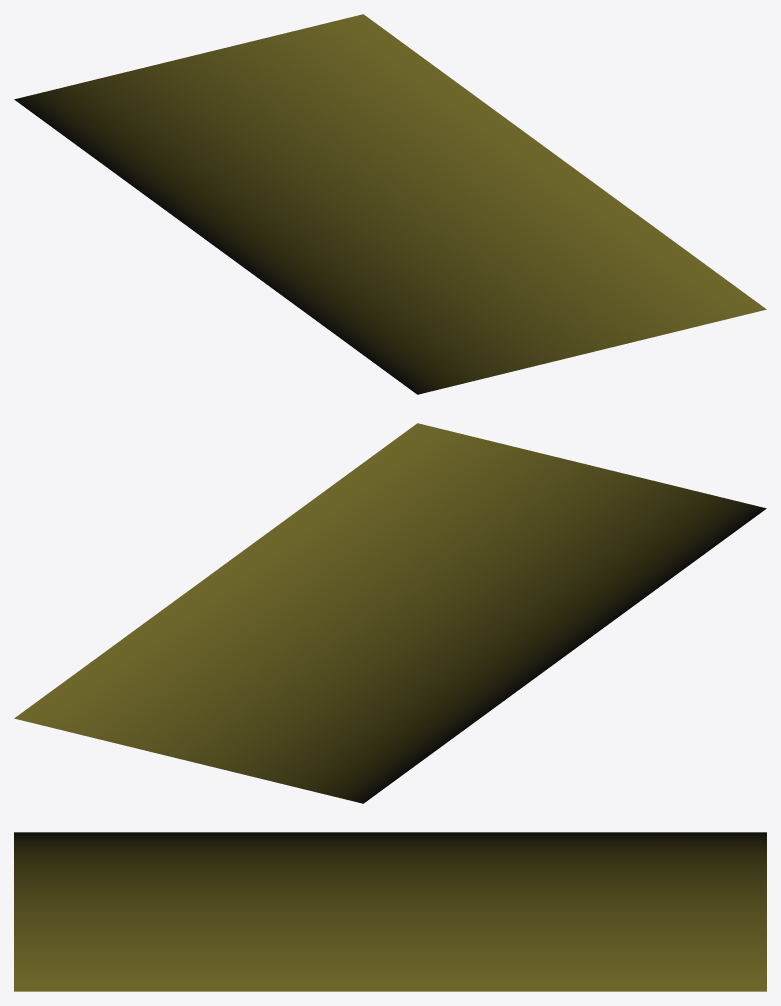
3 views of the same model, one above another, from view 1: azimuth 30°, elevation 25°; view 2: azimuth 150°, elevation 25°; view 3: azimuth 270°, elevation 25° (orthographic). The views are drawn at different scales.
Bounding box in the file's own units: 0.5 × 0 × 1.
Materials: 1 (1 with a texture image).
